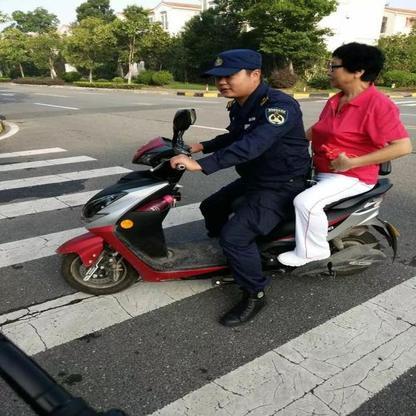target: (55, 43, 413, 296)
